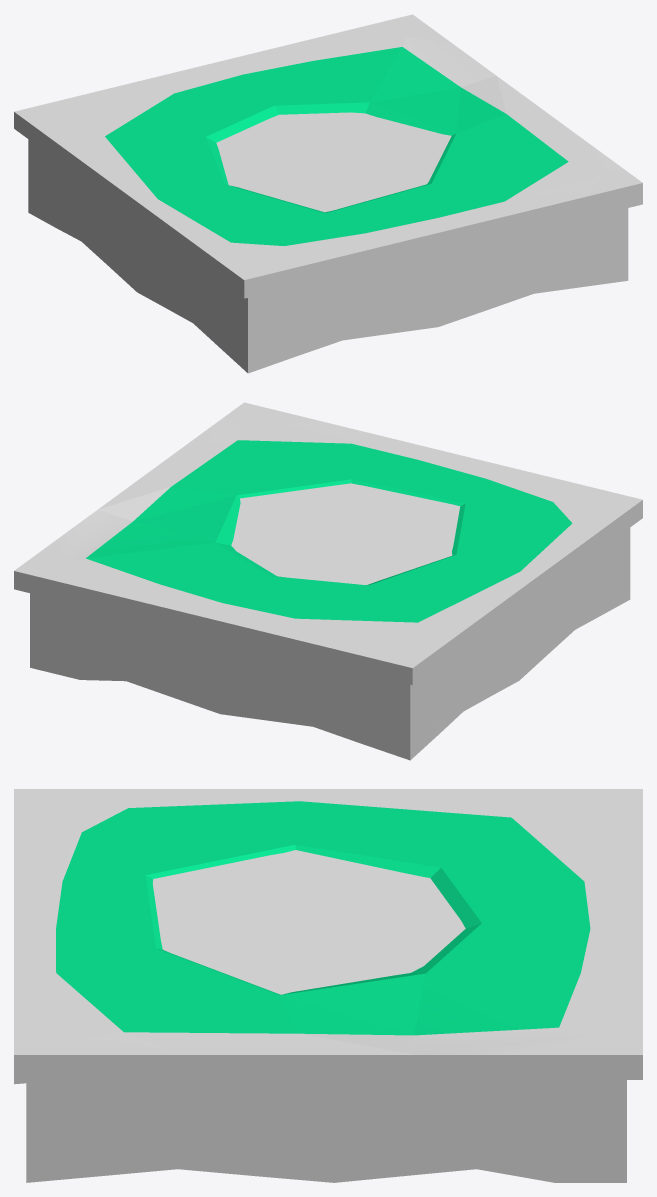
The model's file is oasis.fbx.
3 views of the same model, one above another, from view 1: azimuth 30°, elevation 25°; view 2: azimuth 150°, elevation 25°; view 3: azimuth 270°, elevation 25° (orthographic). The views are drawn at different scales.
Visible parts, largest first — view 1: world-oasis; view 2: world-oasis; view 3: world-oasis.
Boxes of the visible parts, <box> form: world-oasis: <box>14,14,642,373</box>; world-oasis: <box>14,402,642,760</box>; world-oasis: <box>14,789,642,1182</box>.
Size of the model in its own units: 10000 by 2365 by 10000.
